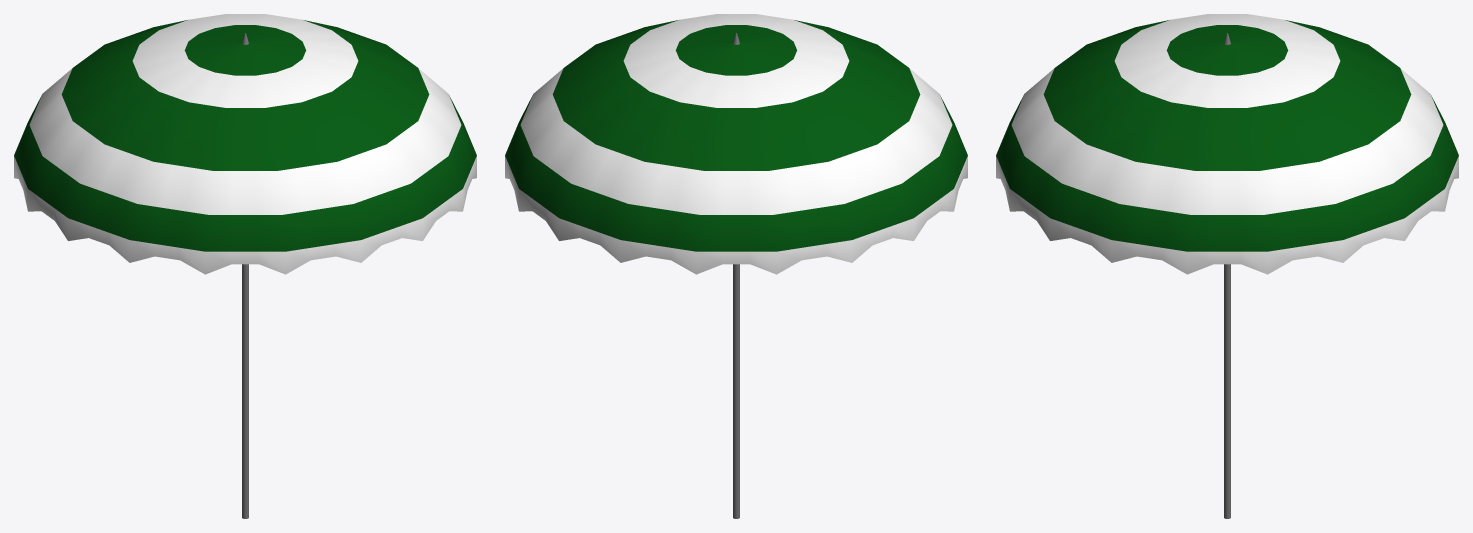
The model's file is Sombrinha3.fbx.
3 views of the same model, side by side, from view 1: azimuth 30°, elevation 25°; view 2: azimuth 150°, elevation 25°; view 3: azimuth 270°, elevation 25° (orthographic).
Parts seen in each view (by area): view 1: Sombrinha3; view 2: Sombrinha3; view 3: Sombrinha3.
Boxes of the visible parts, bbox=[...] form: Sombrinha3: bbox=[14, 14, 476, 518]; Sombrinha3: bbox=[505, 14, 967, 518]; Sombrinha3: bbox=[996, 14, 1458, 518].
Size of the model in its own units: 980 by 1149 by 995.
